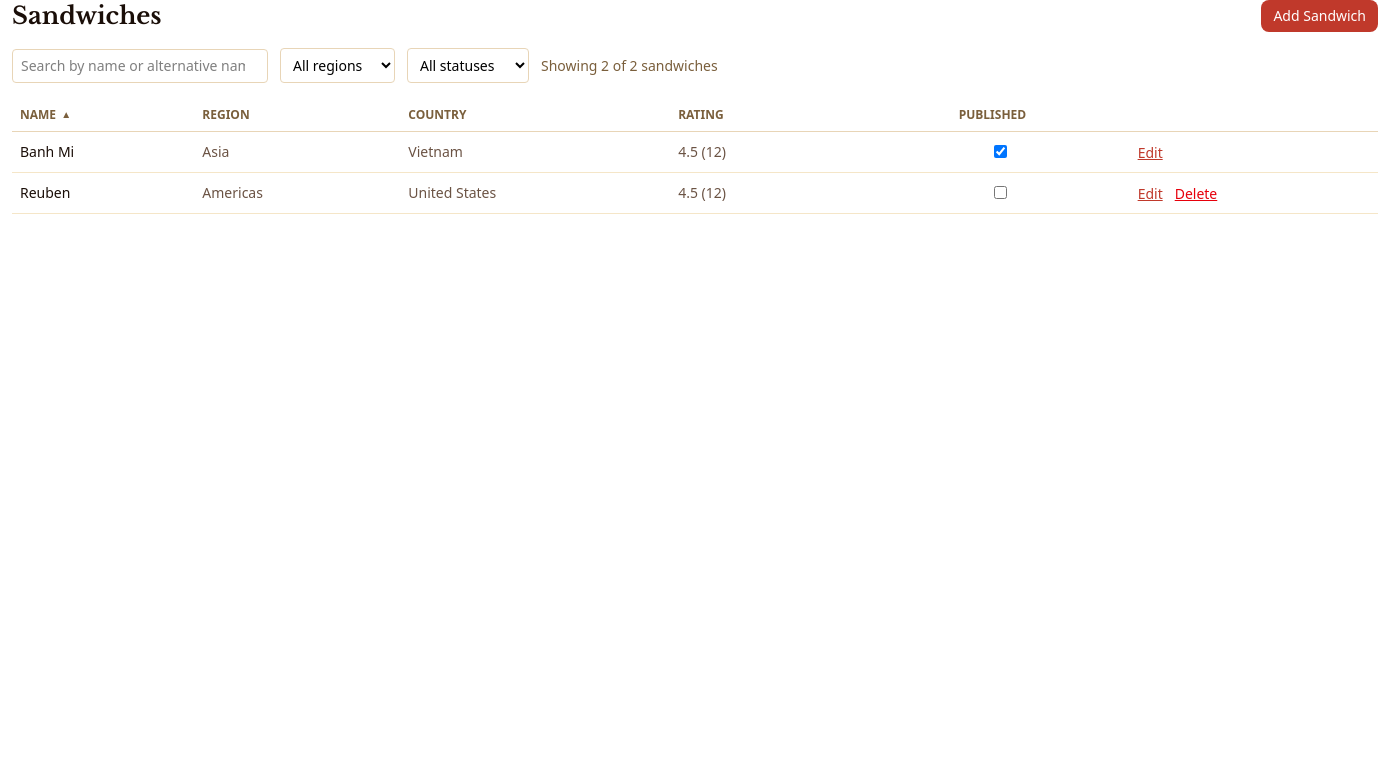
it: DatabaseManagementPage editing › saves edits by the original slug and returns to the list
Expected: the text "Reuben" is shown, [12,172,194,214]
Click the button with aria-label "Edit Reuben": point(1150, 194) [1138,184,1163,204]
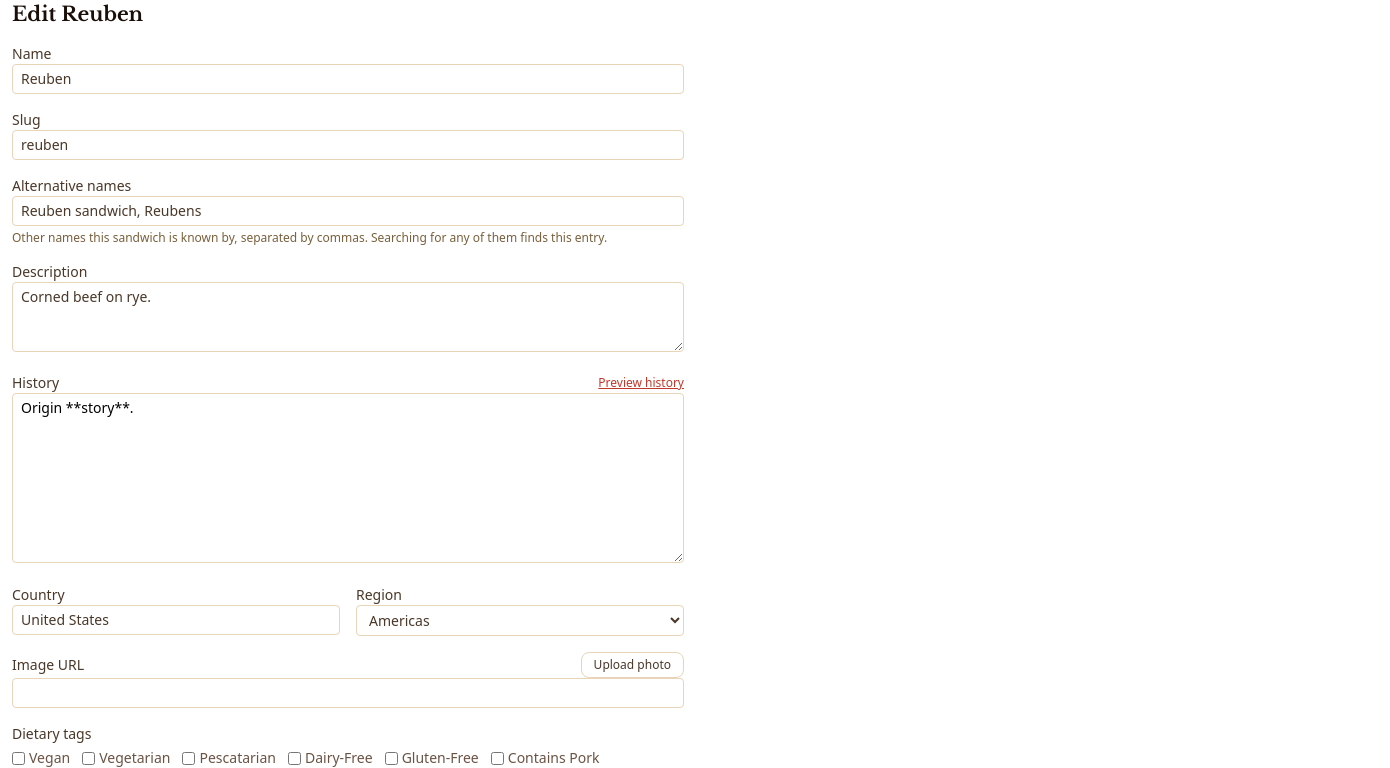
Replace the text in the text box labelled "Description" with "Updated.": point(348, 317) [12,282,684,352]
(page scrolled)
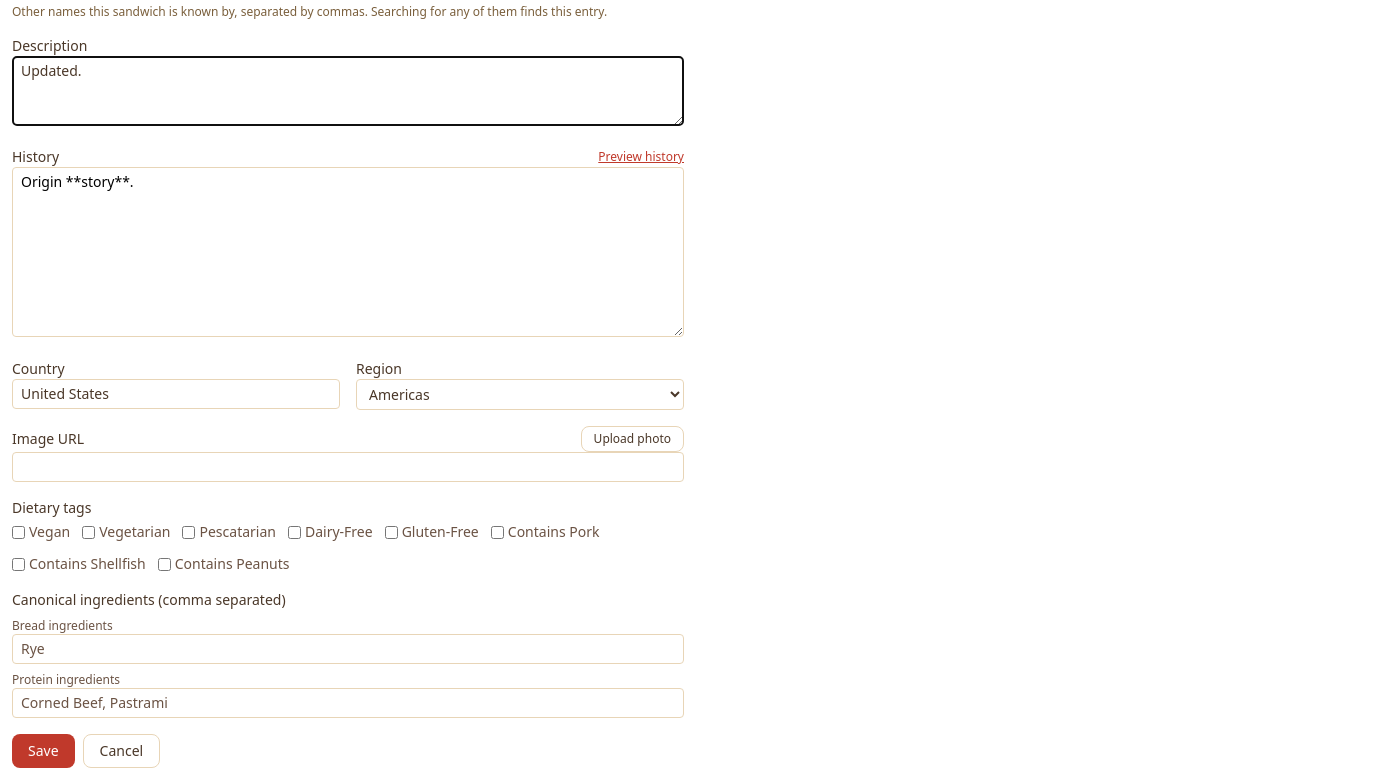
Click the button "Save": point(43, 751) [12,734,75,767]
(page scrolled)
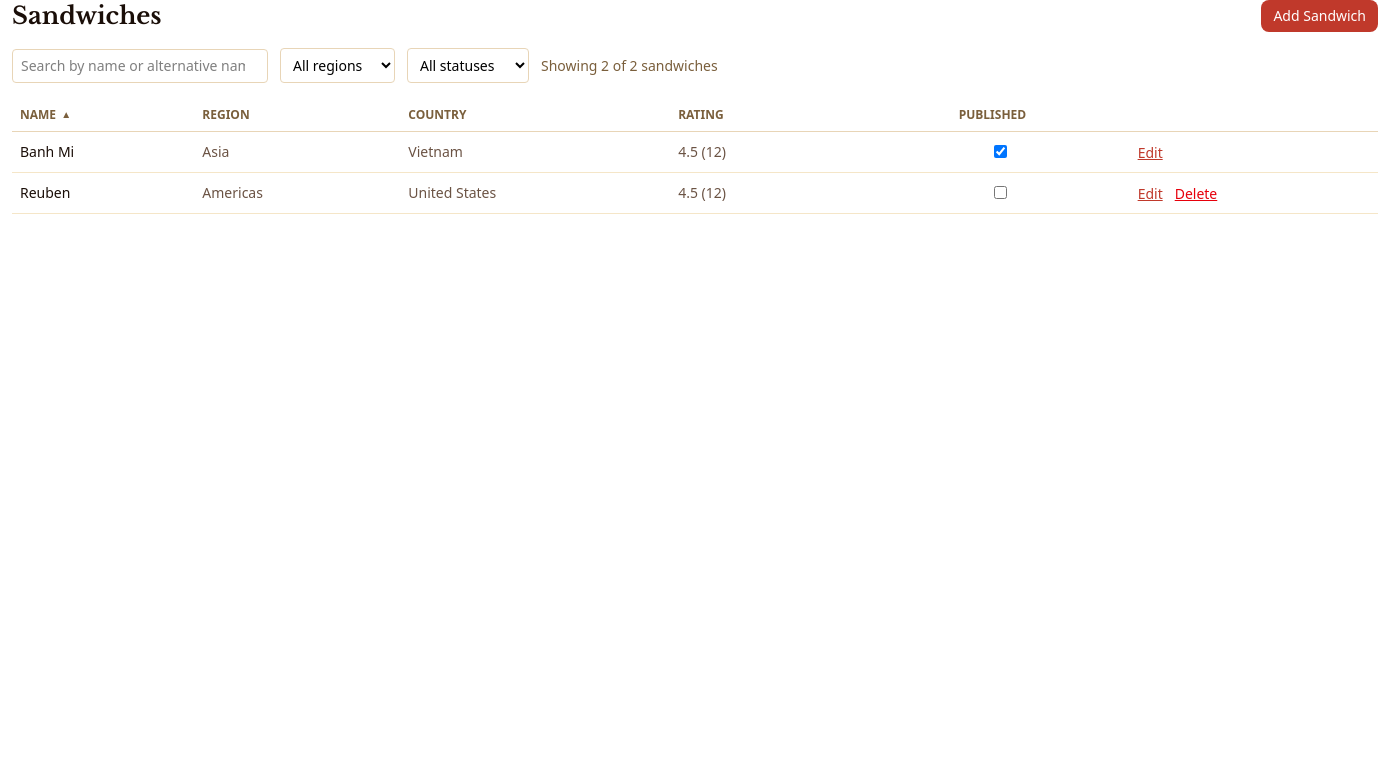
Expected: the button with aria-label "Edit Reuben" is shown, [1138,184,1163,204]
